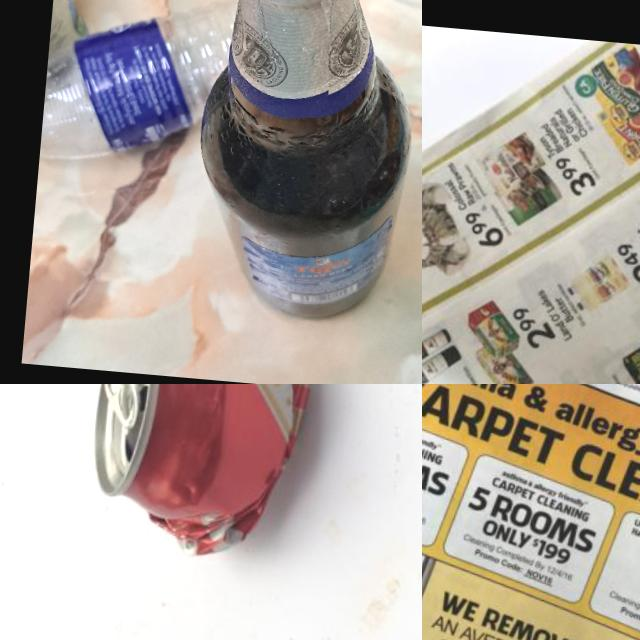aba de lata: (96, 384, 147, 433)
garrafa de vidro: (184, 0, 422, 329)
garrafa plástica: (37, 0, 252, 177)
lata: (82, 384, 320, 561)
papel: (422, 21, 640, 384), (422, 384, 640, 640)
